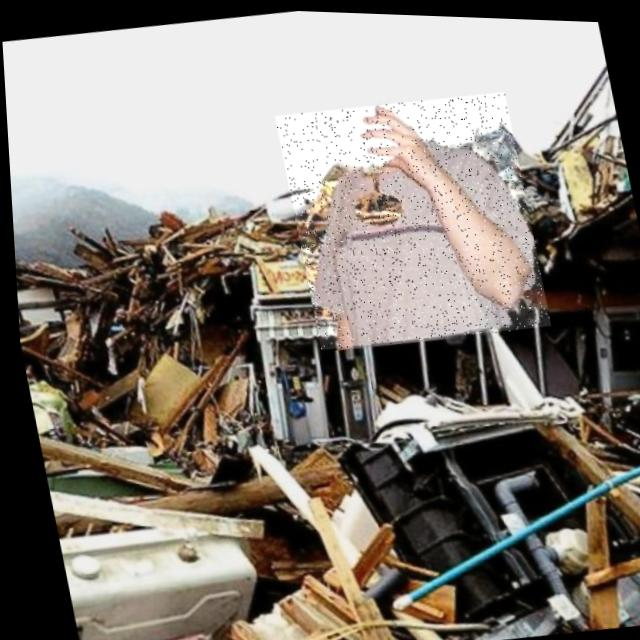Person in Rubble: (272, 82, 549, 356)
